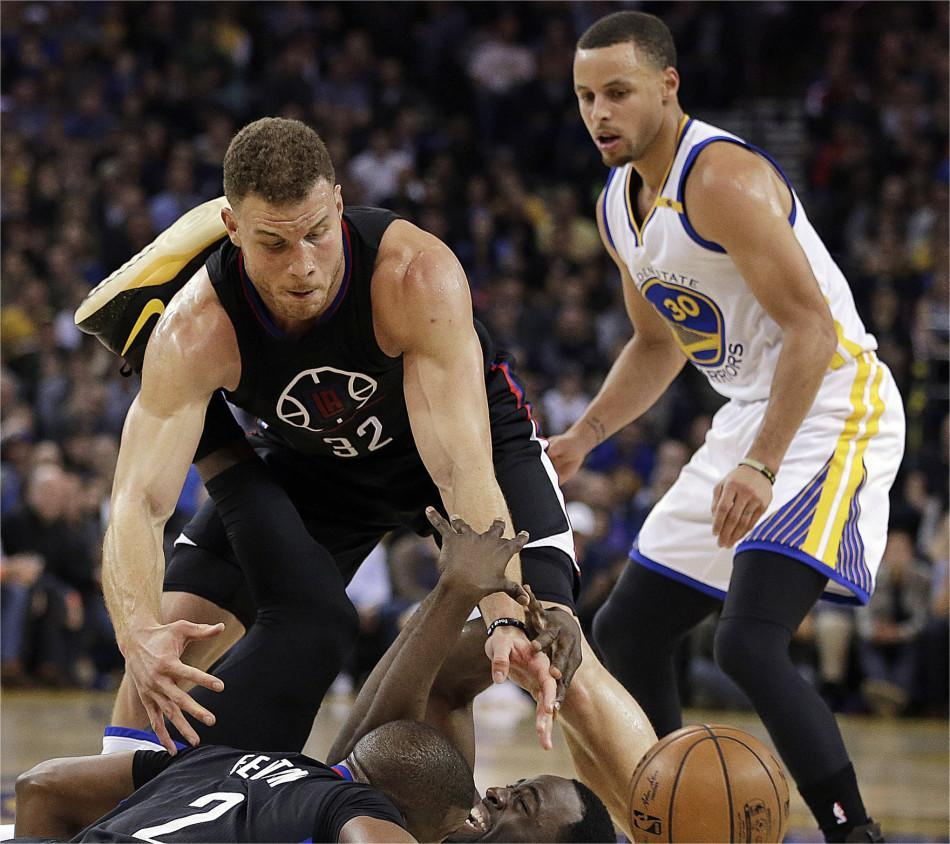bending: (561, 11, 927, 844), (101, 122, 554, 731)
